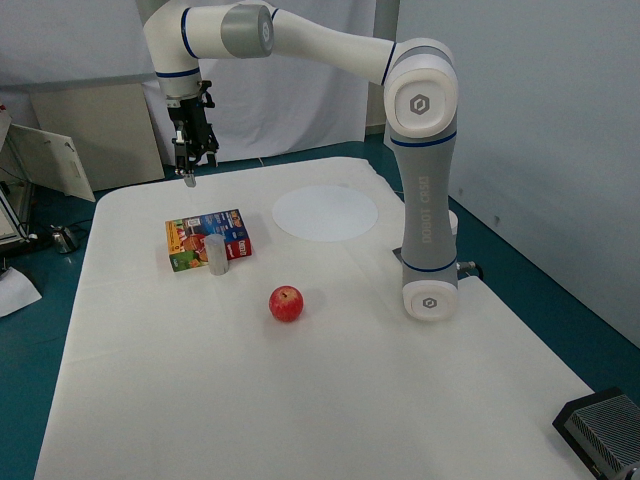apple: (266, 282, 310, 326)
metalROD: (202, 230, 231, 279)
